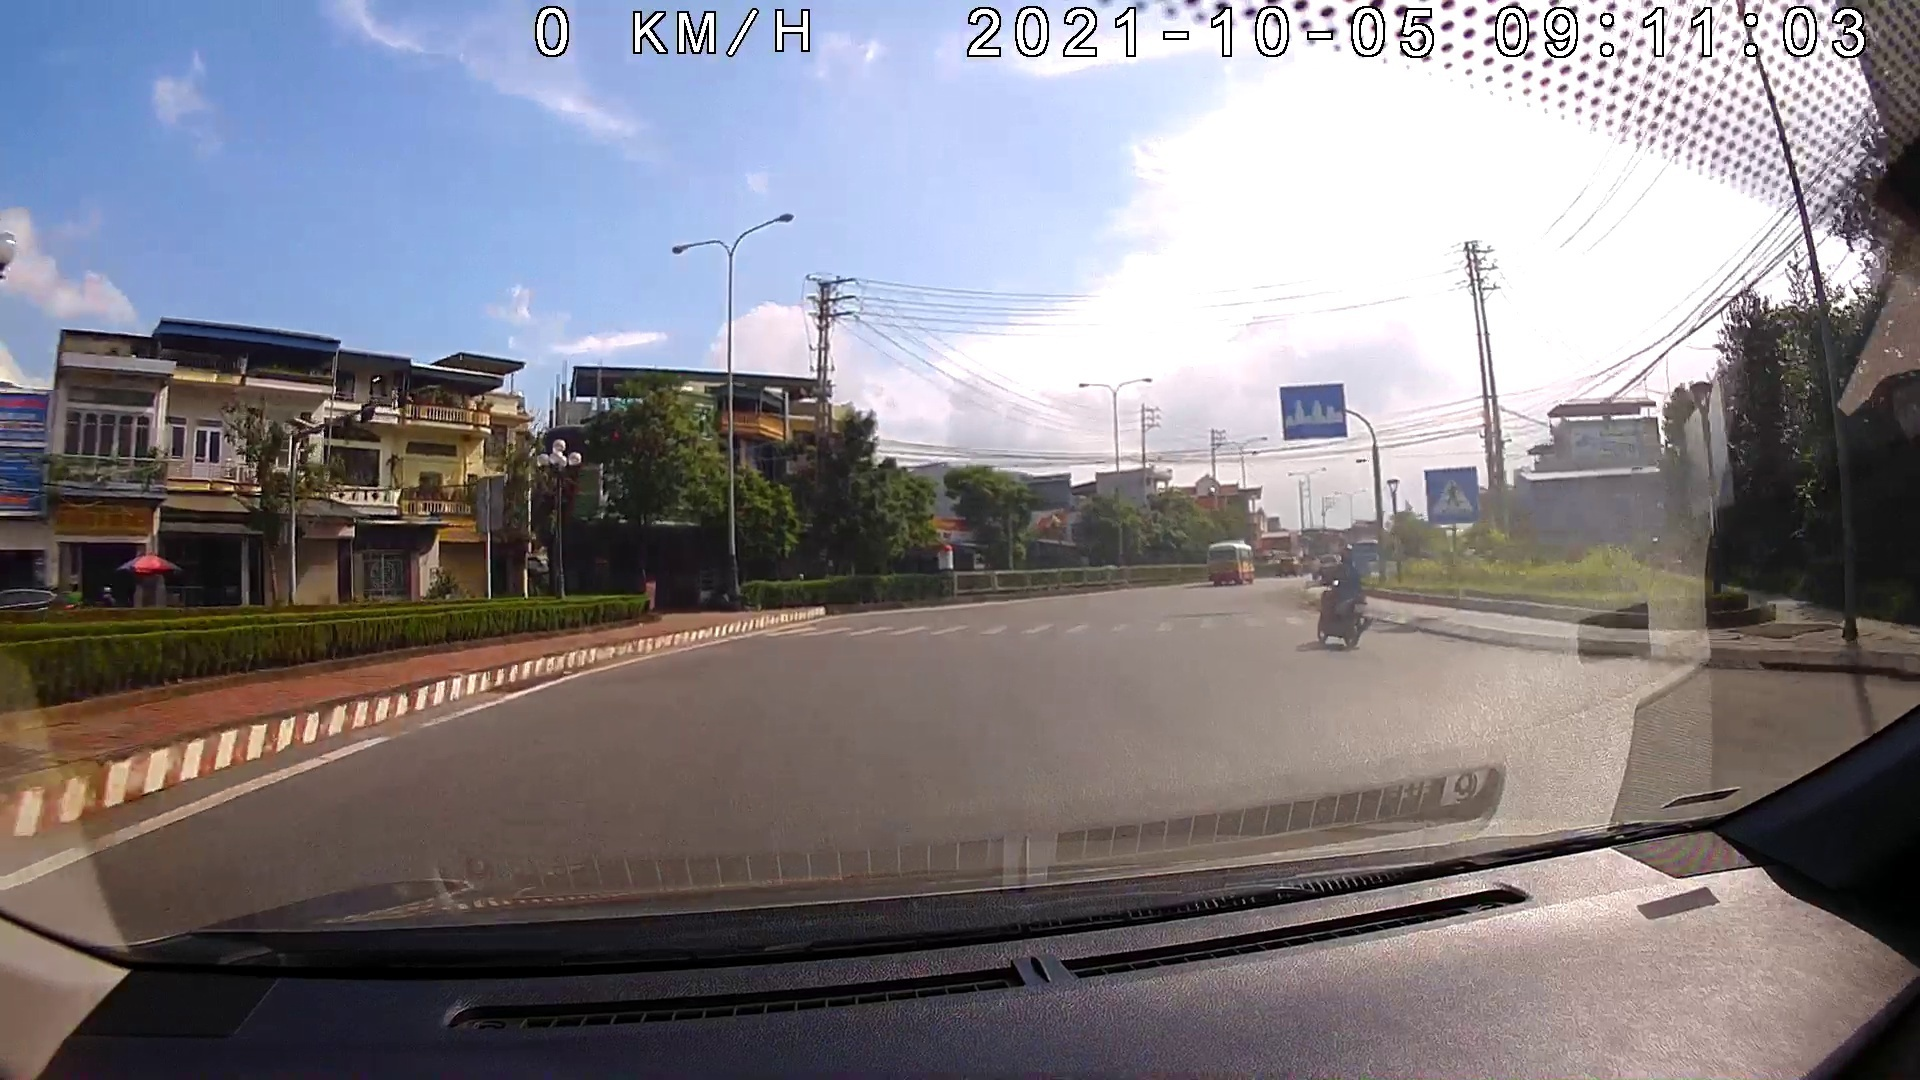Bien khac: (1279, 382, 1348, 440)
Nguoi di bo: (1423, 464, 1480, 524)
